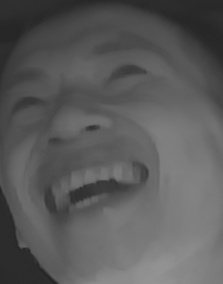eye: (101, 58, 149, 88), (9, 92, 49, 120)
mouth: (41, 153, 152, 230)
